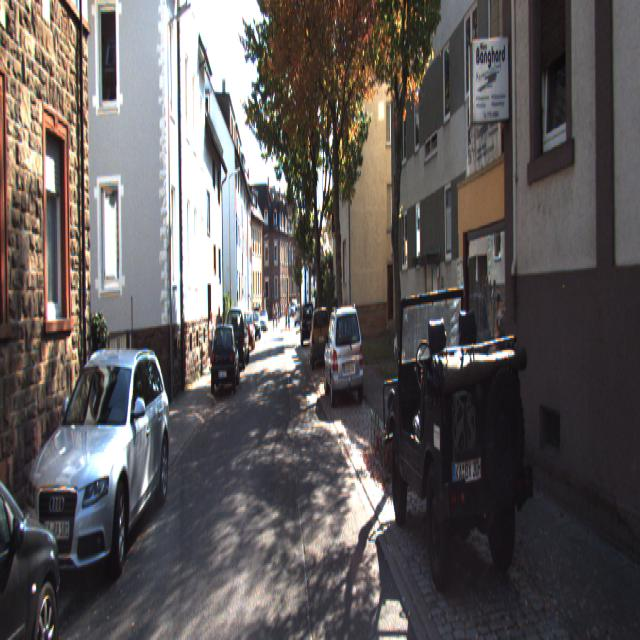Car: (382, 263, 544, 619), (14, 340, 174, 612), (0, 400, 76, 638), (322, 308, 367, 411), (206, 322, 241, 398), (223, 306, 250, 372), (308, 307, 331, 372), (239, 309, 257, 351), (300, 302, 316, 348)
